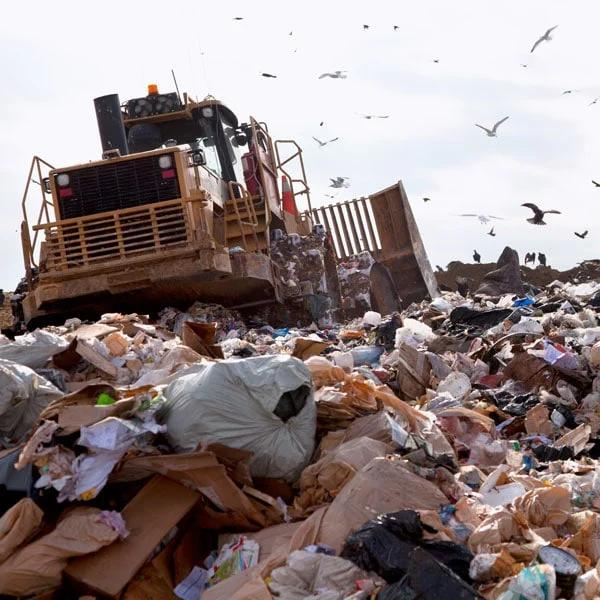garbage: (13, 308, 600, 600)
